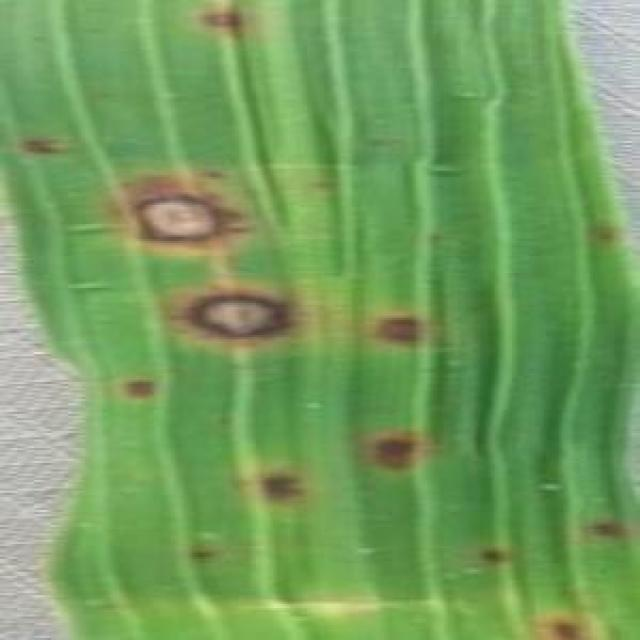Brown_Spot: (117, 178, 251, 262), (173, 283, 296, 344), (240, 462, 314, 525), (356, 424, 426, 472), (532, 603, 622, 640), (110, 366, 172, 412), (350, 310, 434, 343), (188, 0, 245, 43), (579, 506, 635, 544), (481, 540, 517, 574), (20, 130, 54, 154)
